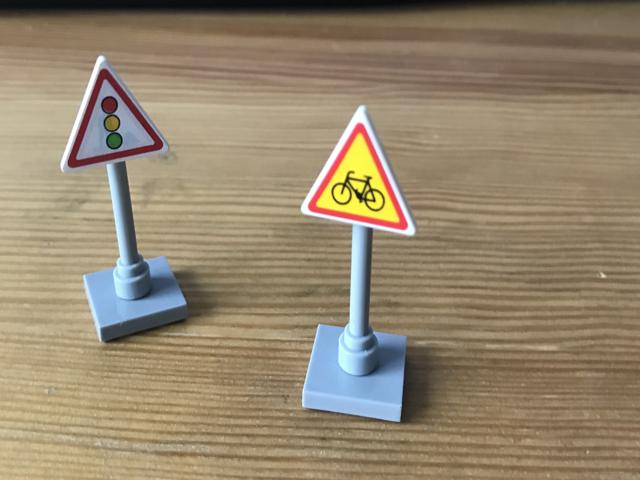lichtzeichenanlage: (58, 53, 172, 176)
radfahrer: (298, 102, 421, 240)
